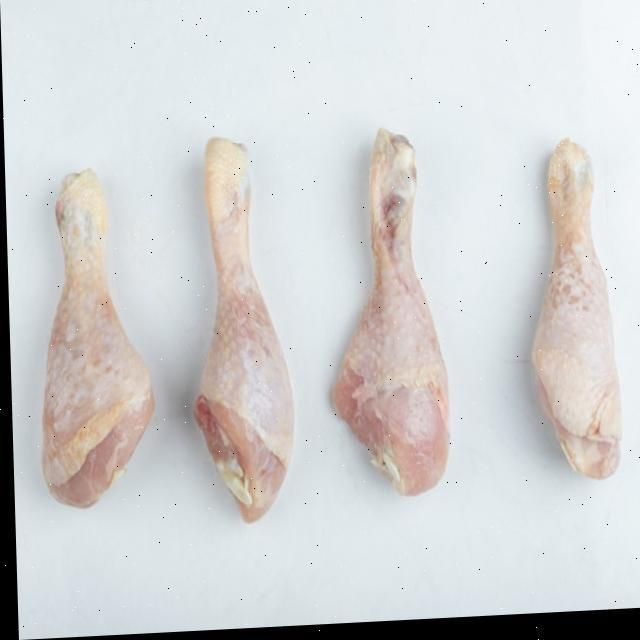leg: (321, 114, 452, 508), (183, 132, 294, 532), (31, 164, 155, 516), (516, 132, 625, 502)
